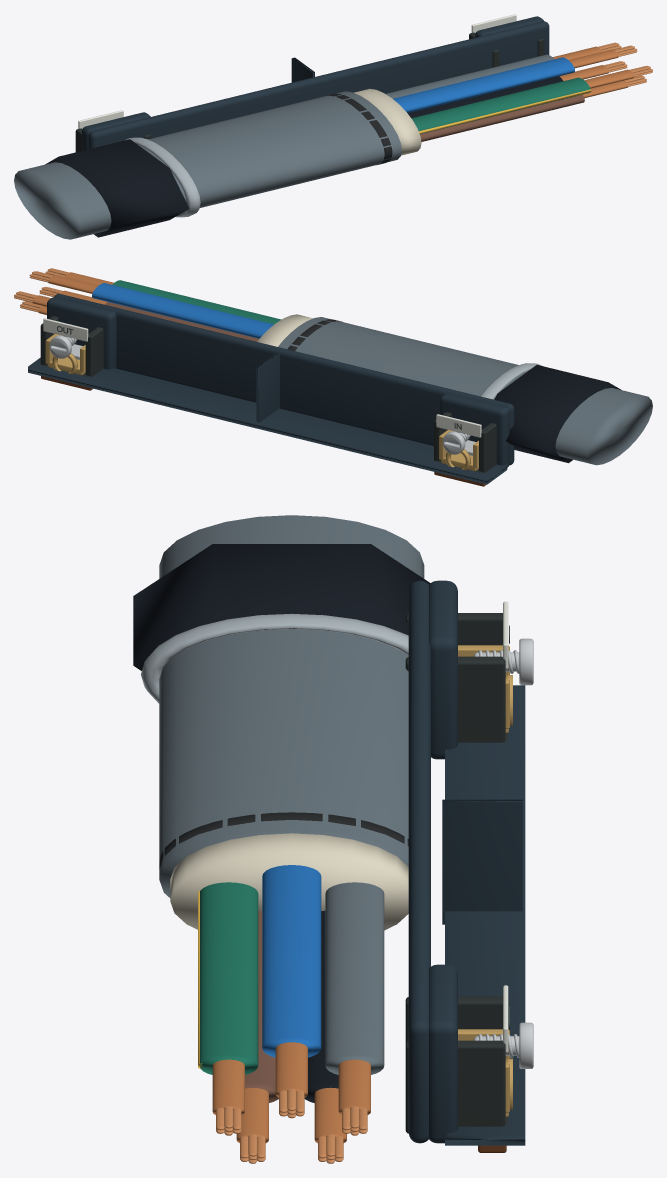
The model's file is cable_five-core.glb.
3 views of the same model, one above another, from view 1: azimuth 30°, elevation 25°; view 2: azimuth 150°, elevation 25°; view 3: azimuth 270°, elevation 25° (orthographic). The views are drawn at different scales.
Visible parts, largest first — view 1: part:body, part:terminals · Original a463fd81, part:sheath, part:mounting, part:sheath · Original db0da9ae, detail:stranded-copper-cores · Detail oxygen-free copper, Cutaway cable outer sheath, Moulded terminal legend pad, Moulded terminal legend pad.001; view 2: part:terminals · Original a463fd81, part:body, part:mounting, part:sheath, part:sheath · Original db0da9ae, detail:terminal-clamp:OUT · Detail moulded engineering polym, detail:terminal-clamp:IN · Detail moulded engineering polyme, detail:stranded-copper-cores · Detail oxygen-free copper, detail:terminal-clamp:OUT · Detail machined brass, detail:terminal-clamp:IN · Detail machined brass, Moulded terminal legend pad, Moulded terminal legend pad.001 (+3 smaller); view 3: part:body, part:terminals · Original a463fd81, part:sheath, part:mounting, part:sheath · Original db0da9ae, detail:terminal-clamp:OUT · Detail moulded engineering polym, detail:terminal-clamp:IN · Detail moulded engineering polyme, detail:stranded-copper-cores · Detail oxygen-free copper, Cutaway cable outer sheath, detail:terminal-clamp:IN · Detail zinc plated fixing, detail:terminal-clamp:OUT · Detail zinc plated fixing.
Boxes of the visible parts, left/top/right/bottom form: part:body: left=14, top=88, right=421, bottom=239; part:terminals · Original a463fd81: left=82, top=16, right=549, bottom=150; part:sheath: left=386, top=54, right=591, bottom=141; part:mounting: left=45, top=137, right=200, bottom=237; part:sheath · Original db0da9ae: left=553, top=46, right=638, bottom=98; detail:stranded-copper-cores · Detail oxygen-free copper: left=598, top=42, right=652, bottom=86; Cutaway cable outer sheath: left=325, top=93, right=392, bottom=165; Moulded terminal legend pad: left=78, top=110, right=123, bottom=128; Moulded terminal legend pad.001: left=471, top=14, right=516, bottom=32; part:terminals · Original a463fd81: left=28, top=293, right=514, bottom=484; part:body: left=257, top=314, right=652, bottom=465; part:mounting: left=480, top=363, right=620, bottom=463; part:sheath: left=92, top=280, right=281, bottom=341; part:sheath · Original db0da9ae: left=28, top=272, right=113, bottom=314; detail:terminal-clamp:OUT · Detail moulded engineering polym: left=40, top=316, right=103, bottom=377; detail:terminal-clamp:IN · Detail moulded engineering polyme: left=434, top=412, right=496, bottom=473; detail:stranded-copper-cores · Detail oxygen-free copper: left=14, top=268, right=68, bottom=312; detail:terminal-clamp:OUT · Detail machined brass: left=45, top=334, right=85, bottom=375; detail:terminal-clamp:IN · Detail machined brass: left=439, top=430, right=478, bottom=470; Moulded terminal legend pad: left=436, top=414, right=481, bottom=437; Moulded terminal legend pad.001: left=43, top=318, right=88, bottom=341; part:body: left=159, top=515, right=424, bottom=930; part:terminals · Original a463fd81: left=408, top=580, right=525, bottom=1145; part:sheath: left=198, top=865, right=384, bottom=1102; part:mounting: left=133, top=544, right=430, bottom=703; part:sheath · Original db0da9ae: left=212, top=1042, right=370, bottom=1143; detail:terminal-clamp:OUT · Detail moulded engineering polym: left=405, top=996, right=507, bottom=1133; detail:terminal-clamp:IN · Detail moulded engineering polyme: left=405, top=613, right=507, bottom=742; detail:stranded-copper-cores · Detail oxygen-free copper: left=216, top=1089, right=367, bottom=1163; Cutaway cable outer sheath: left=159, top=812, right=408, bottom=868; detail:terminal-clamp:IN · Detail zinc plated fixing: left=473, top=638, right=533, bottom=685; detail:terminal-clamp:OUT · Detail zinc plated fixing: left=473, top=1022, right=533, bottom=1068.
Bounding box in the file's own units: 1.52 × 0.168 × 0.4473.
